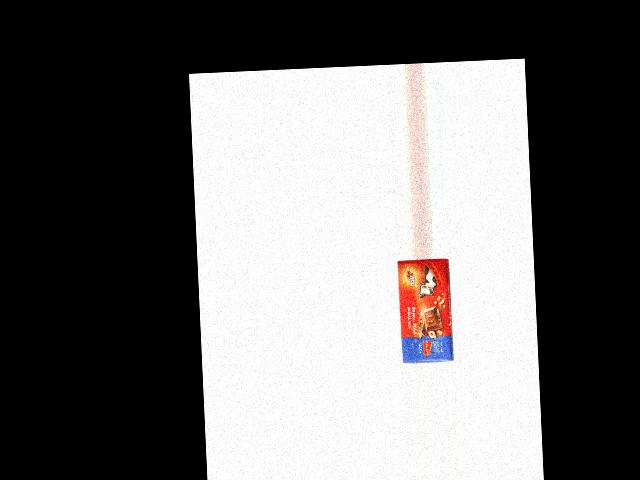chocolate: (398, 258, 458, 362)
